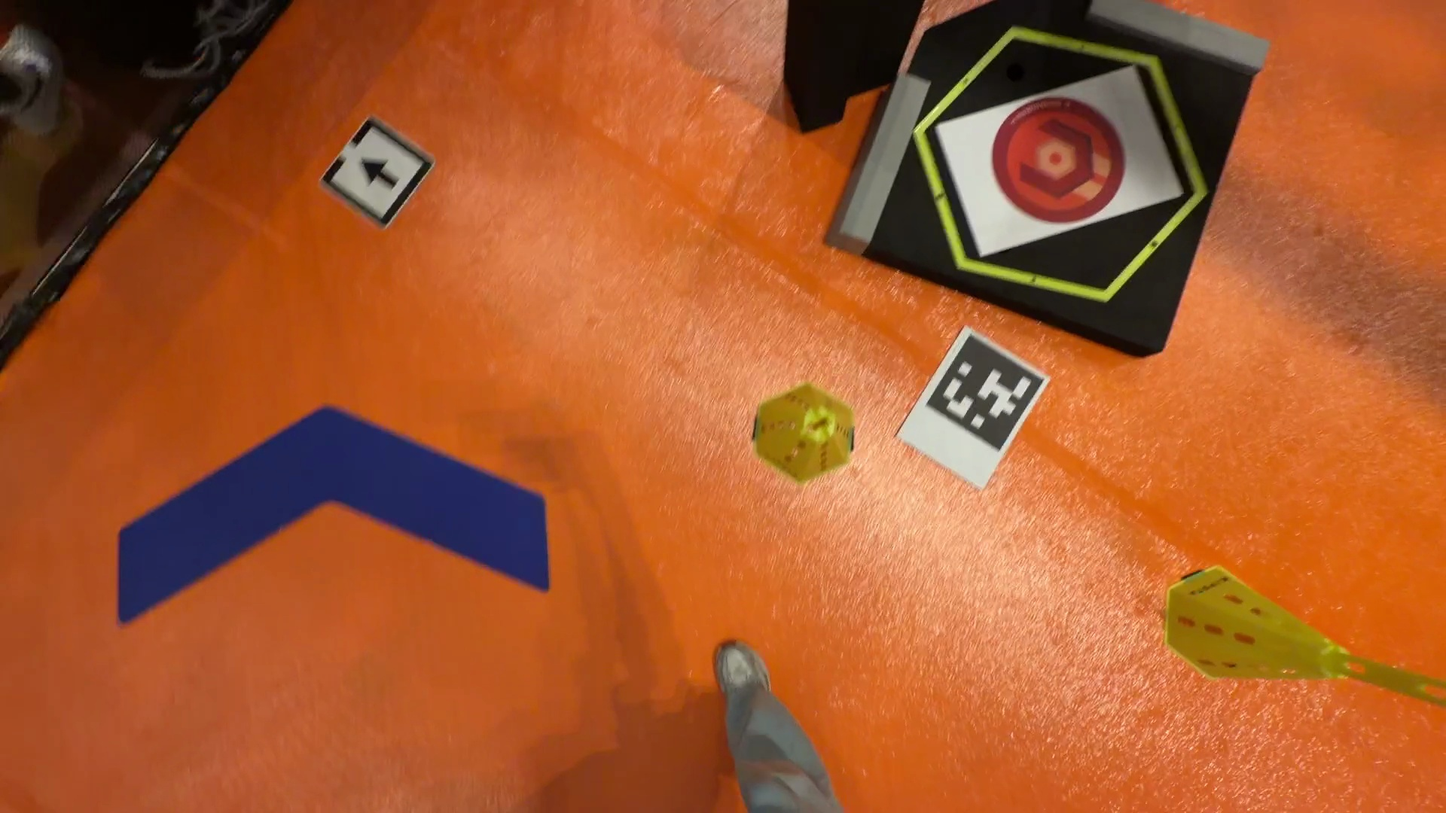landing_pad: (990, 100, 1124, 224)
